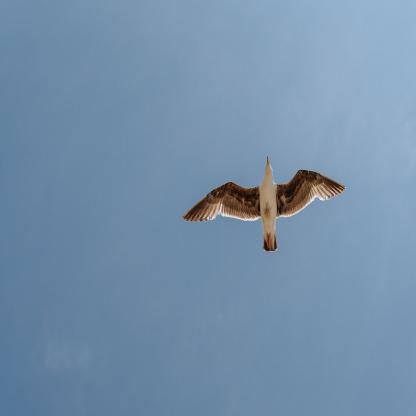bird: (184, 154, 345, 253)
